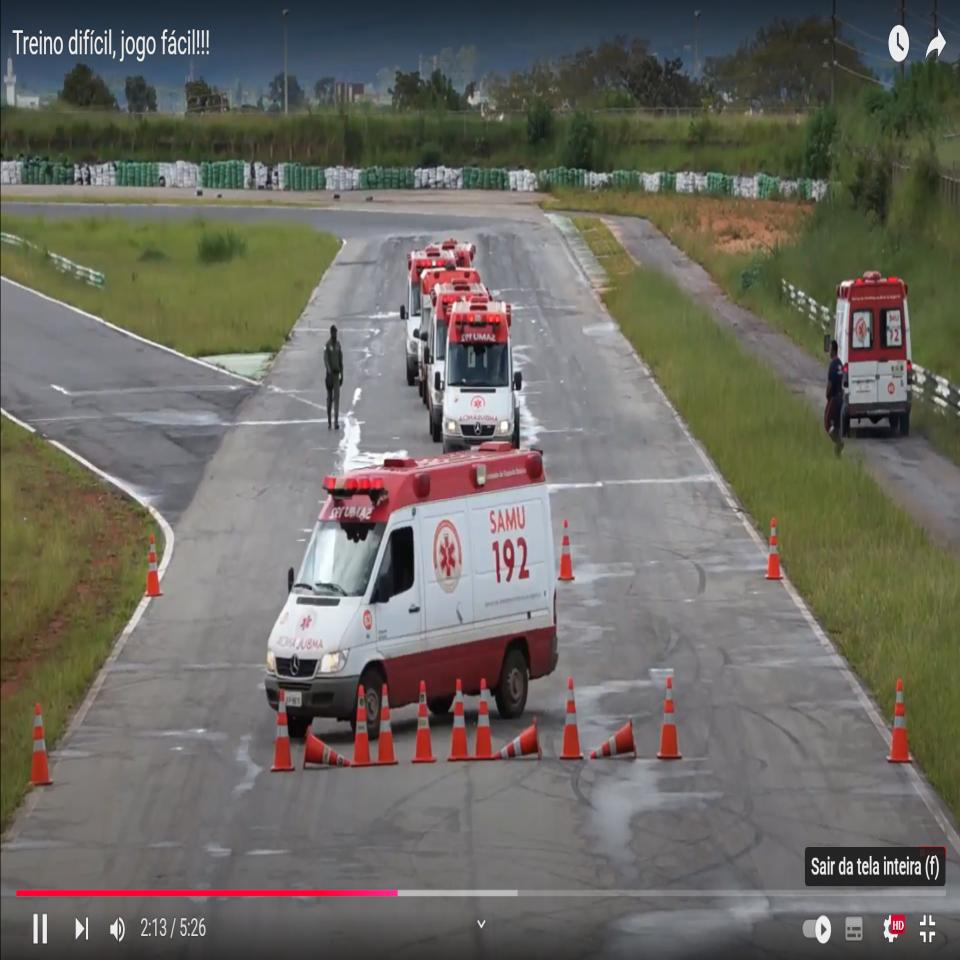bombeiro: (266, 441, 558, 739), (824, 271, 912, 440), (434, 295, 523, 455)
